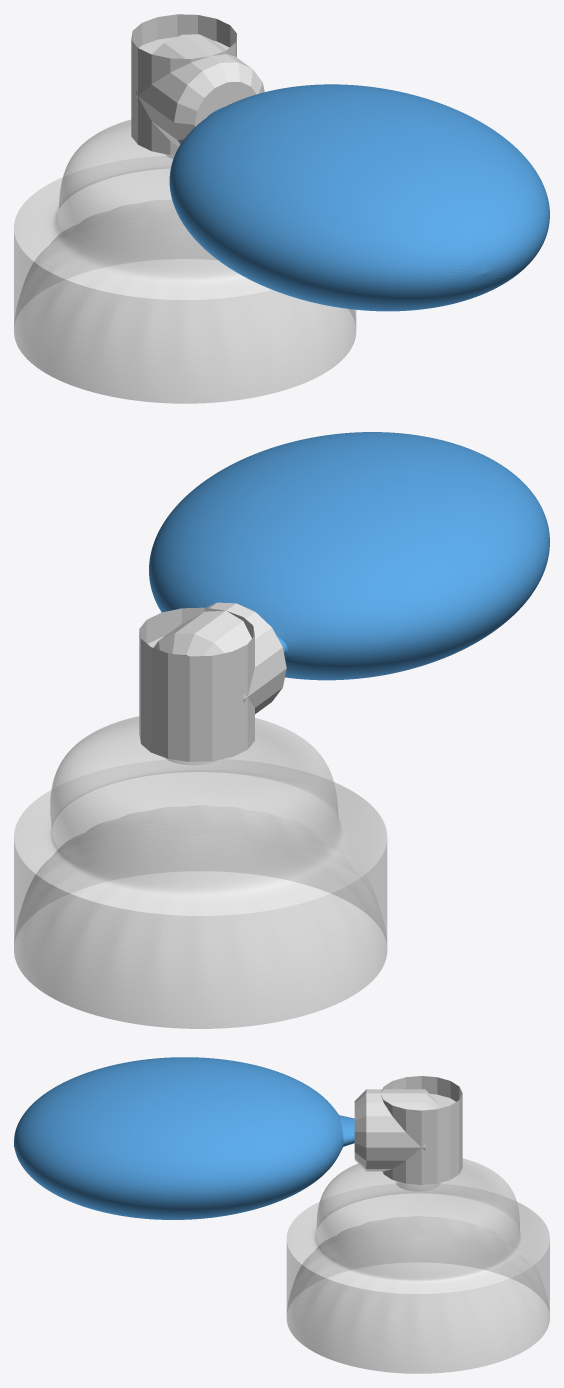
The model's file is tesmasker.fbx.
3 views of the same model, one above another, from view 1: azimuth 30°, elevation 25°; view 2: azimuth 150°, elevation 25°; view 3: azimuth 270°, elevation 25° (orthographic). The views are drawn at different scales.
Parts seen in each view (by area): view 1: Sphere, Cylinder, Cylinder.001, Cylinder.002; view 2: Cylinder, Sphere, Cylinder.002, Cylinder.001; view 3: Cylinder, Sphere, Cylinder.002, Cylinder.001.
Boxes of the visible parts, x1=… form: Sphere: x1=169, y1=84, x2=549, y2=311; Cylinder: x1=14, y1=119, x2=356, y2=403; Cylinder.001: x1=135, y1=34, x2=264, y2=146; Cylinder.002: x1=131, y1=14, x2=236, y2=155; Cylinder: x1=14, y1=716, x2=387, y2=1028; Sphere: x1=149, y1=432, x2=549, y2=680; Cylinder.002: x1=139, y1=607, x2=254, y2=761; Cylinder.001: x1=153, y1=602, x2=286, y2=713; Cylinder: x1=286, y1=1158, x2=549, y2=1373; Sphere: x1=14, y1=1057, x2=354, y2=1219; Cylinder.002: x1=381, y1=1076, x2=462, y2=1184; Cylinder.001: x1=354, y1=1089, x2=436, y2=1171.
Bounding box in the file's own units: 66.87 × 63.06 × 126.
